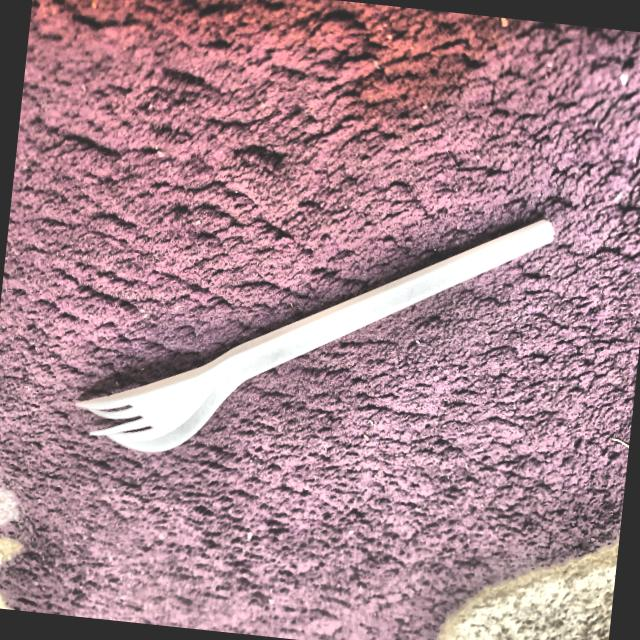plastic utensil: (62, 170, 562, 503)
